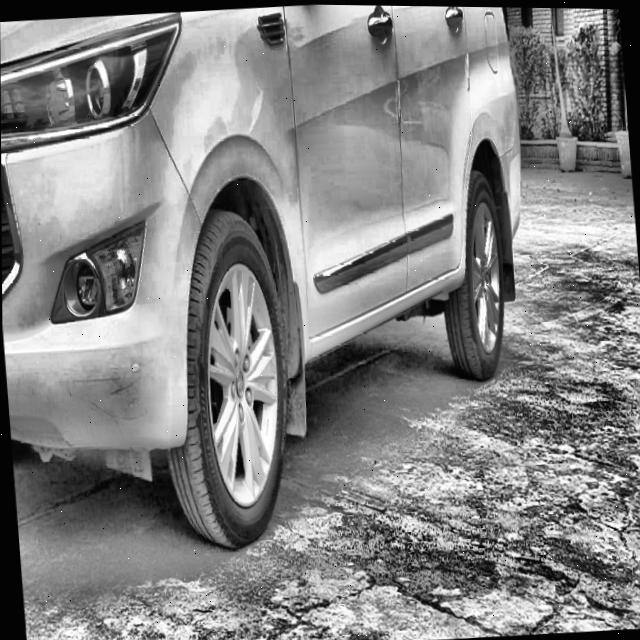light_vehicle: (0, 0, 550, 563)
